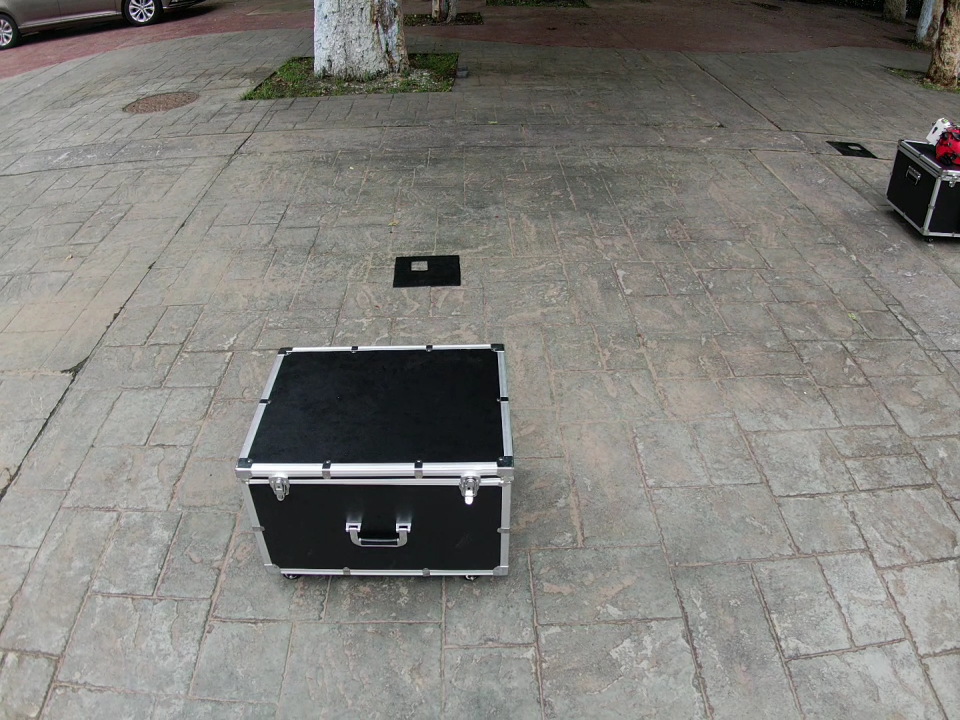box: (235, 344, 514, 577), (883, 138, 960, 238)
helmet: (935, 128, 960, 163)
qrcode: (393, 255, 462, 288), (827, 141, 878, 158)
